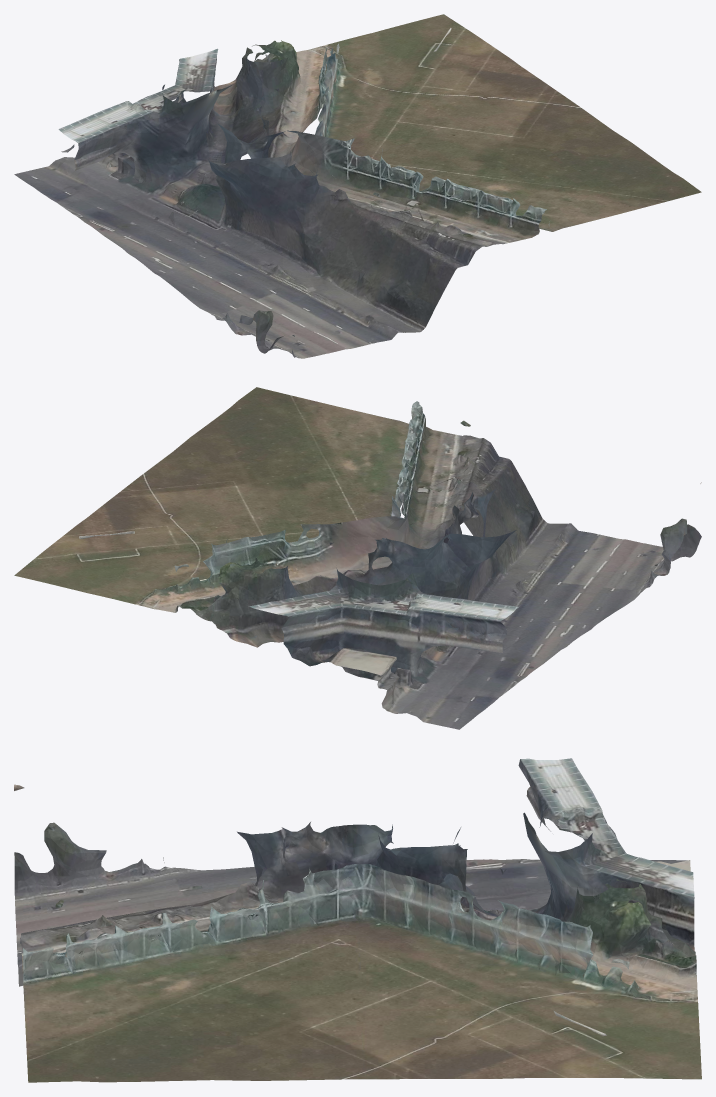
The model's file is Tile_+012_+009_L19_00000320t3.glb.
3 renders of one model, top to bottom at view 1: azimuth 30°, elevation 25°; view 2: azimuth 150°, elevation 25°; view 3: azimuth 270°, elevation 25°, orthographic. The views are drawn at different scales.
Visible parts, largest first — view 1: rtc; view 2: rtc; view 3: rtc.
Part boxes in pixels (left/top/right/bottom): rtc: left=14, top=14, right=701, bottom=358; rtc: left=14, top=387, right=701, bottom=729; rtc: left=14, top=758, right=701, bottom=1082.
Bounding box in the file's own units: 64.56 × 14.53 × 64.02.
4 materials, 4 textured.
